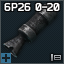AKS-74U 5.45x39 muzzle brake 6P26 0-20: (0, 0, 64, 64)
